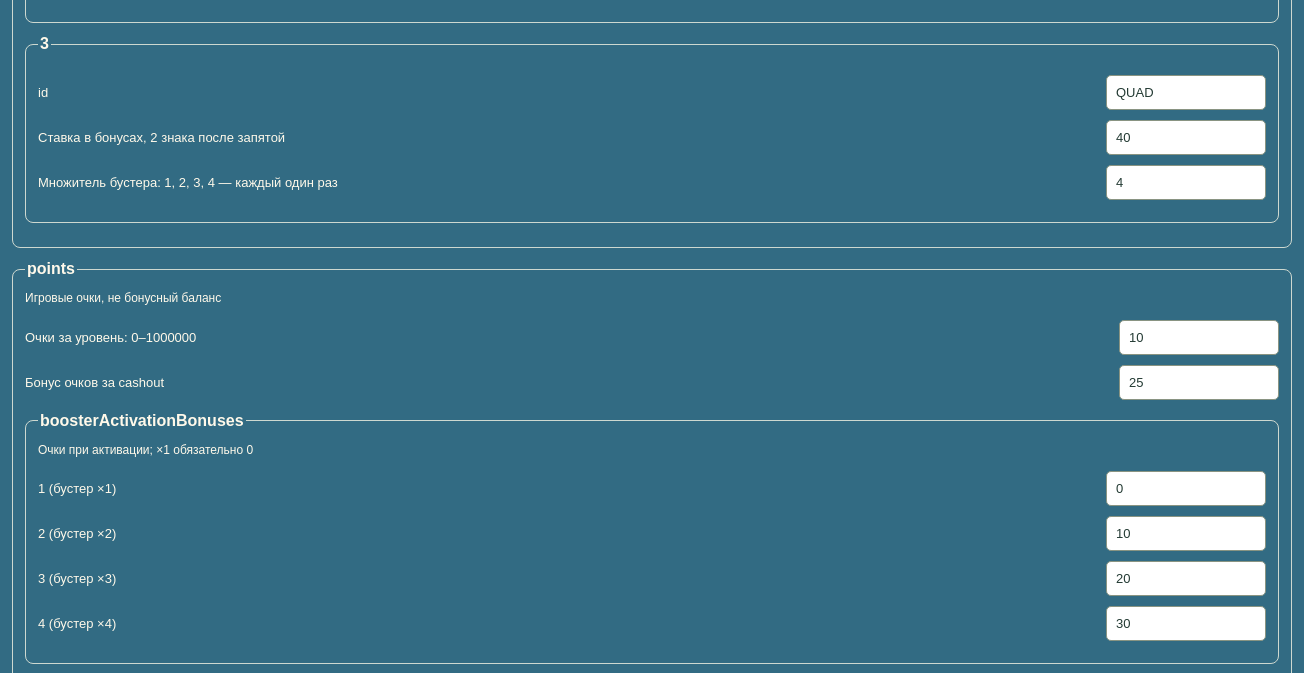
Test: admin provides typed fields and surfaces server validation
(page scrolled)
Replace the text in the number field named "points.pointsPerLevel" with "37" at point(1199, 337), box [1119,320,1279,355]
(page scrolled)
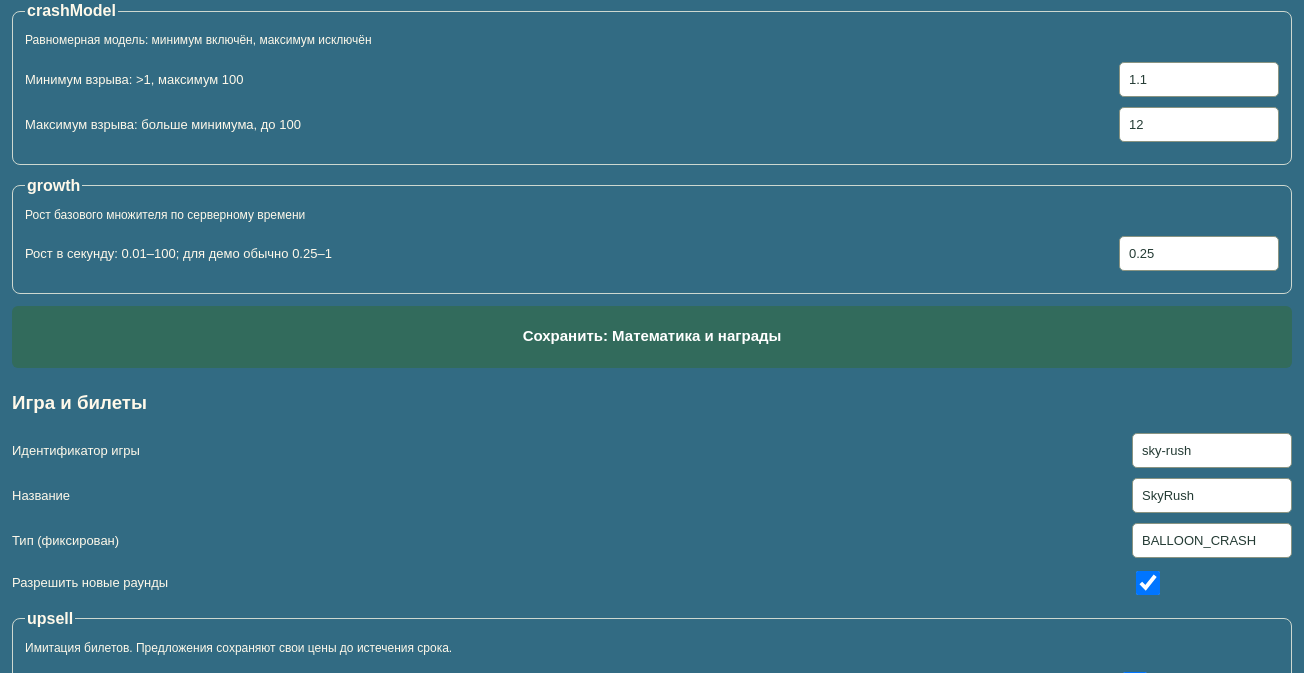
Click the button "Сохранить: Математика и награды" at point(652, 337), box [12,306,1292,368]
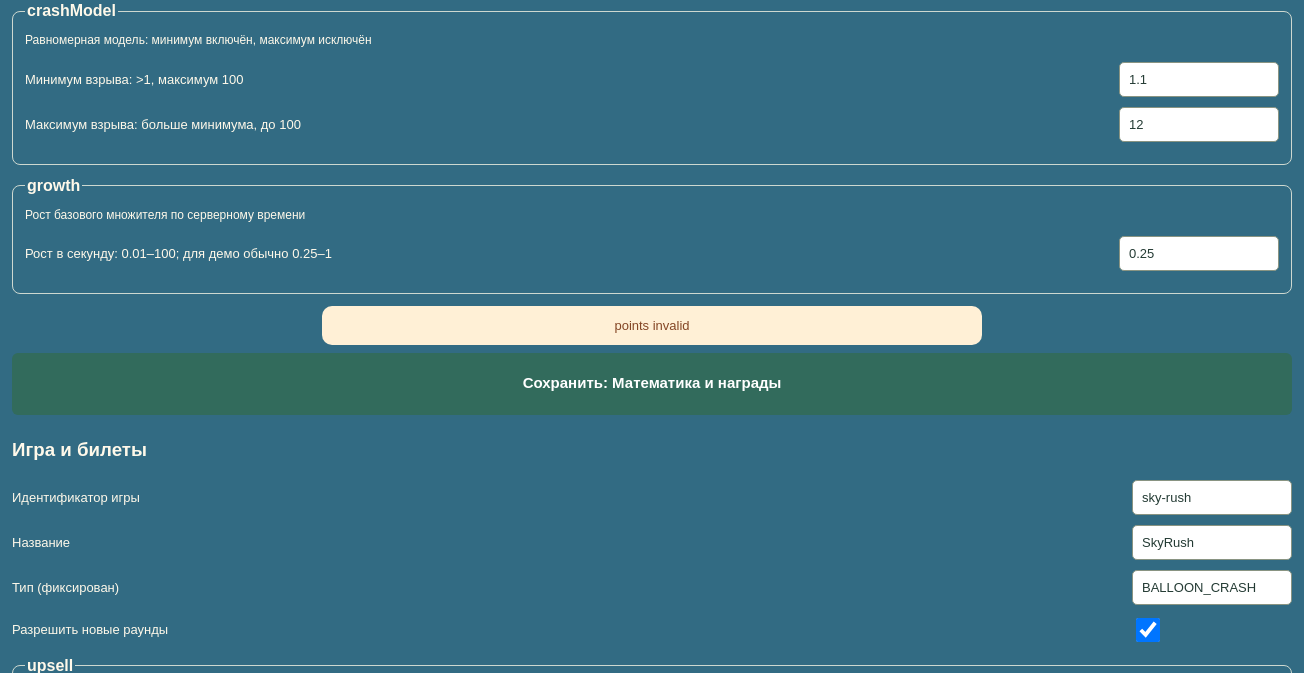
Result: the text "points invalid" is shown at [614,318,690,333]
